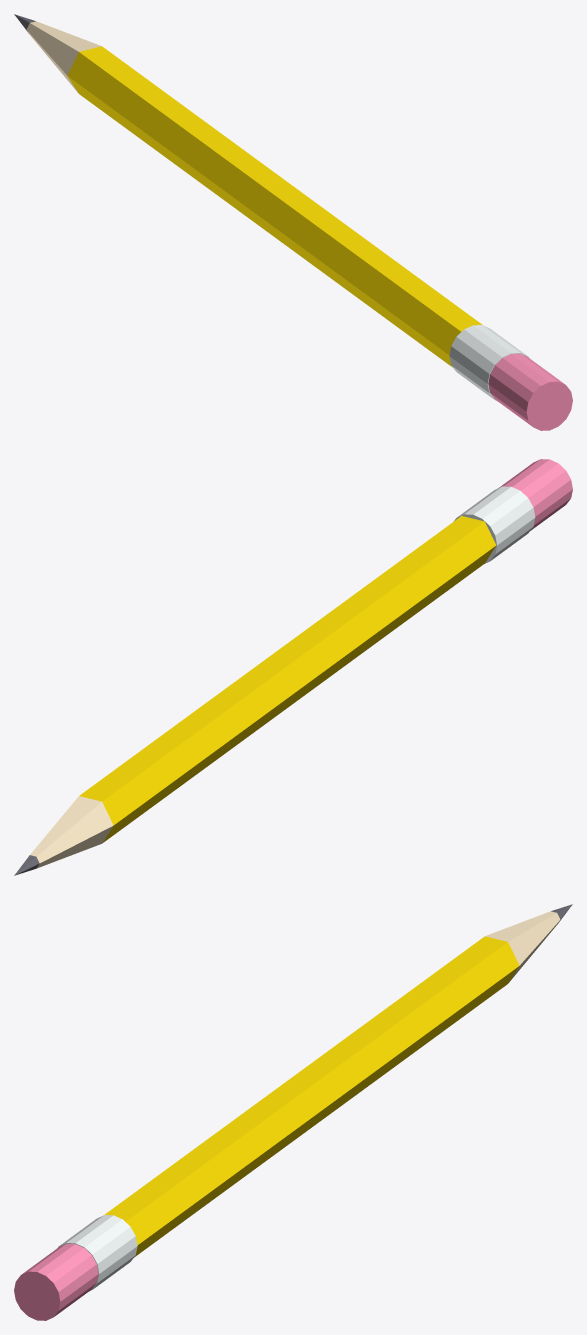
File: mod_olowek.fbx
The picture shows the model from 3 angles, top to bottom: view 1: azimuth 30°, elevation 25°; view 2: azimuth 150°, elevation 25°; view 3: azimuth 330°, elevation 25°; orthographic projection.
Visible parts, largest first — view 1: LowPoly_Pencil_Fixed; view 2: LowPoly_Pencil_Fixed; view 3: LowPoly_Pencil_Fixed.
Boxes of the visible parts, x1,y1,x2,y2 form: LowPoly_Pencil_Fixed: (14, 14, 572, 430); LowPoly_Pencil_Fixed: (14, 459, 572, 875); LowPoly_Pencil_Fixed: (14, 904, 572, 1320).
Bounding box in the file's own units: 0.2276 × 0.2276 × 4.42.
